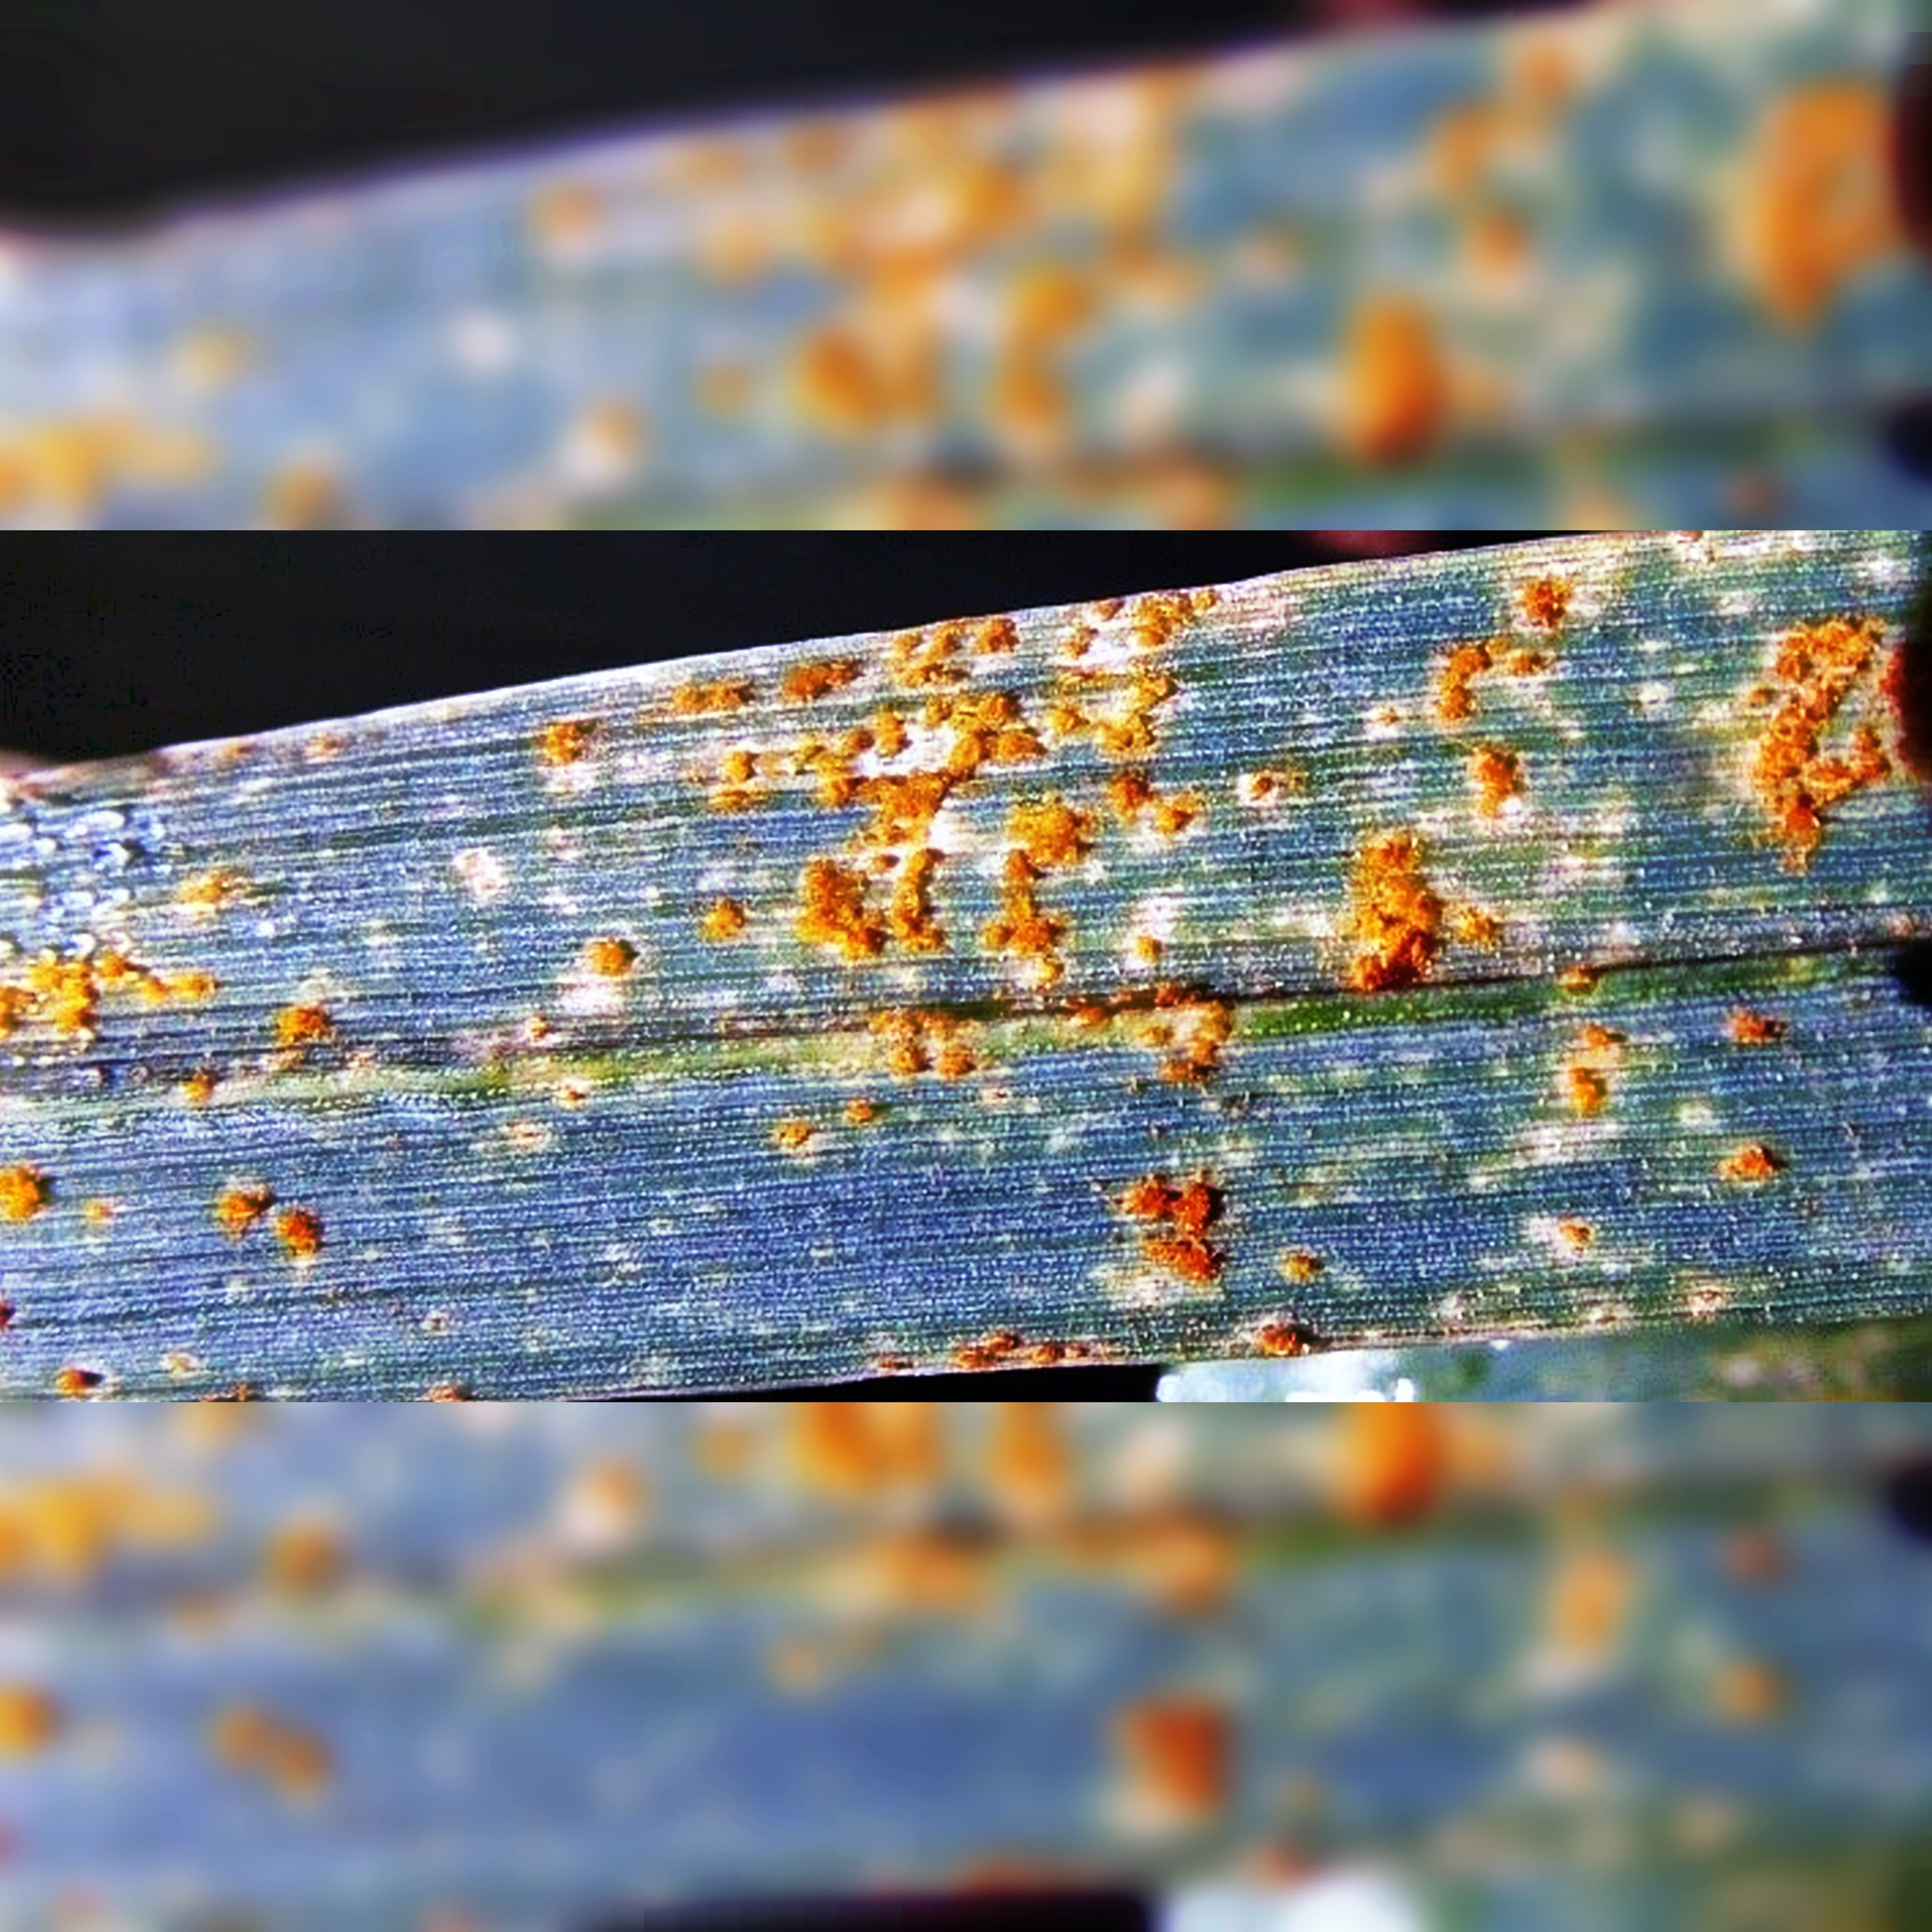Leaf Rust: (506, 571, 1932, 1348)
